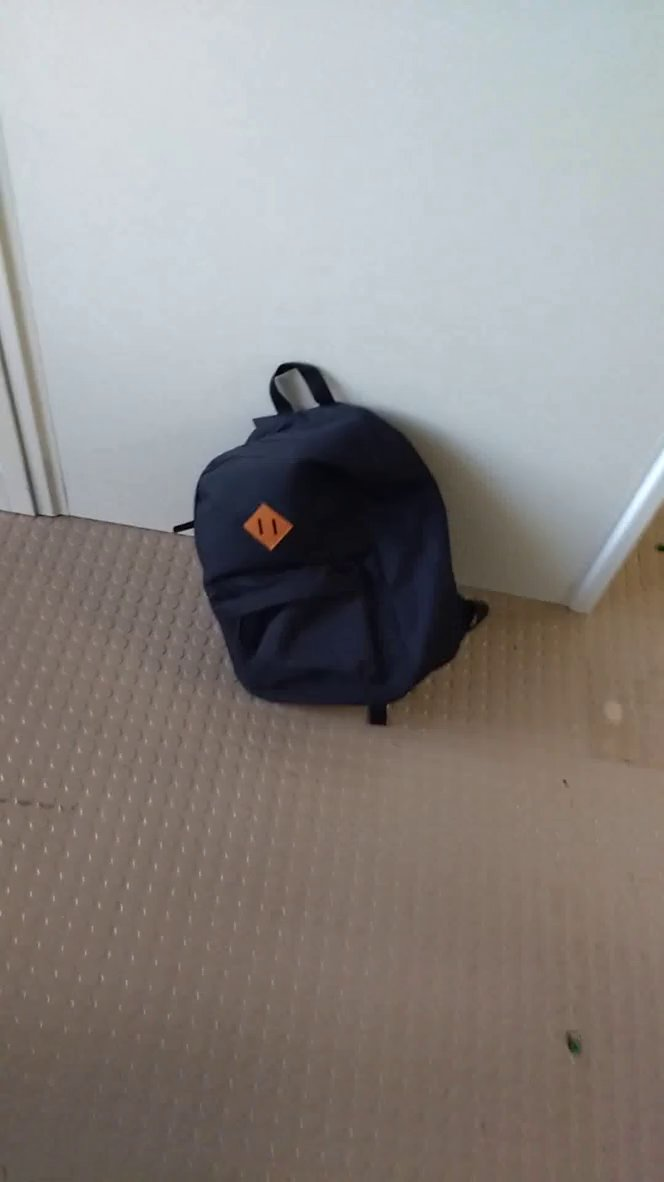bag: (164, 353, 503, 735)
